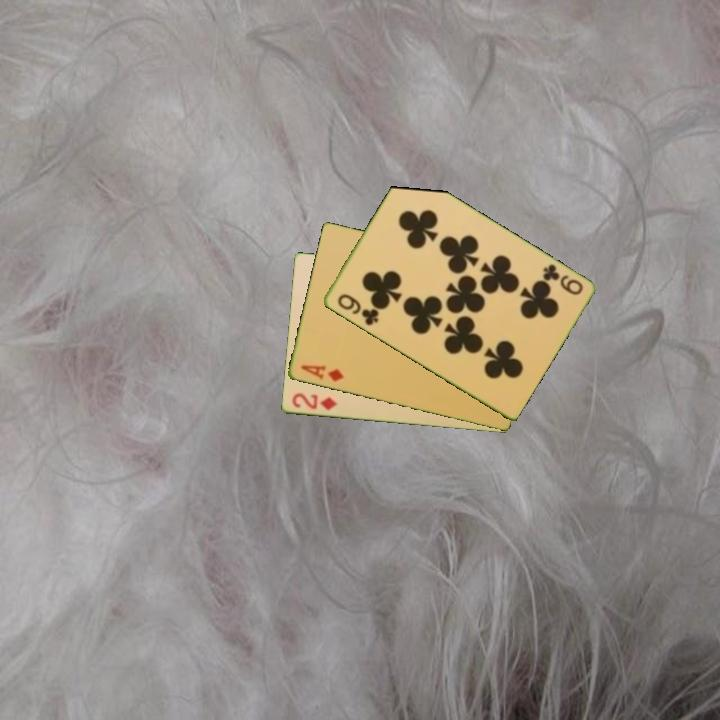2d: (288, 390, 340, 413)
9c: (334, 290, 381, 329), (539, 260, 586, 298)
Ad: (297, 361, 346, 385)
